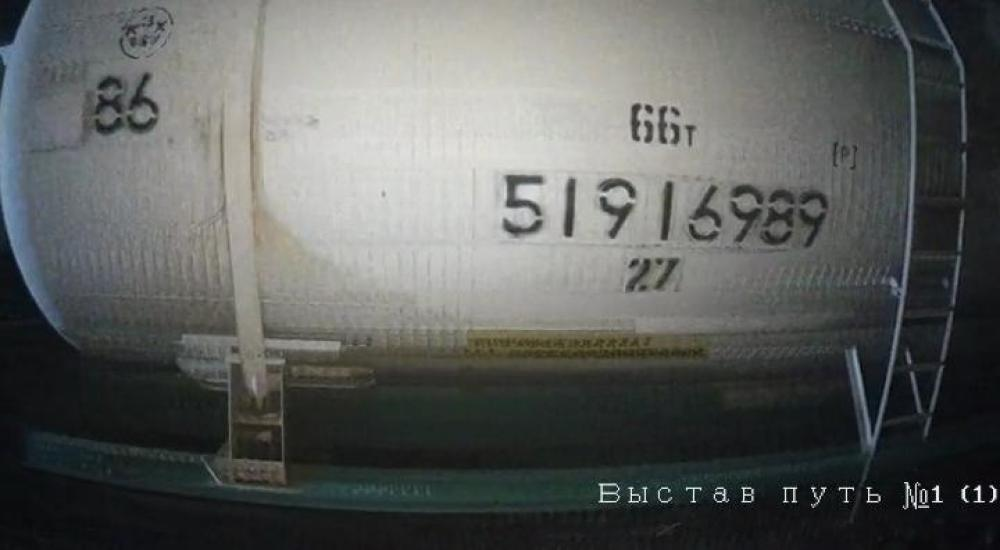Wagon-number: (495, 171, 832, 249)
